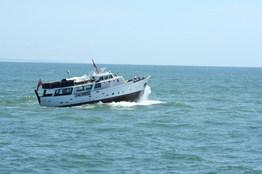yacht: (30, 61, 153, 109)
